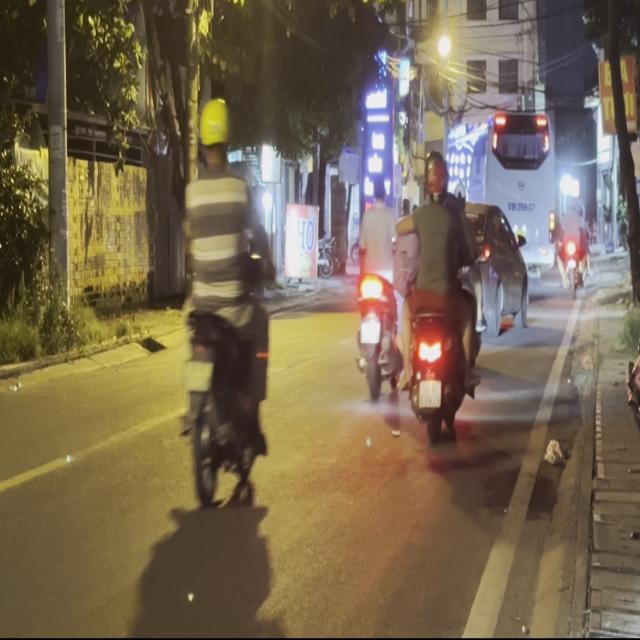helmet: (196, 96, 231, 167), (421, 149, 449, 201)
licenseplate: (176, 93, 279, 510), (398, 144, 483, 450), (353, 168, 403, 400)
motorcyclist: (369, 170, 388, 205)
nohelmet: (181, 359, 212, 392), (418, 380, 442, 408), (361, 321, 380, 344)
